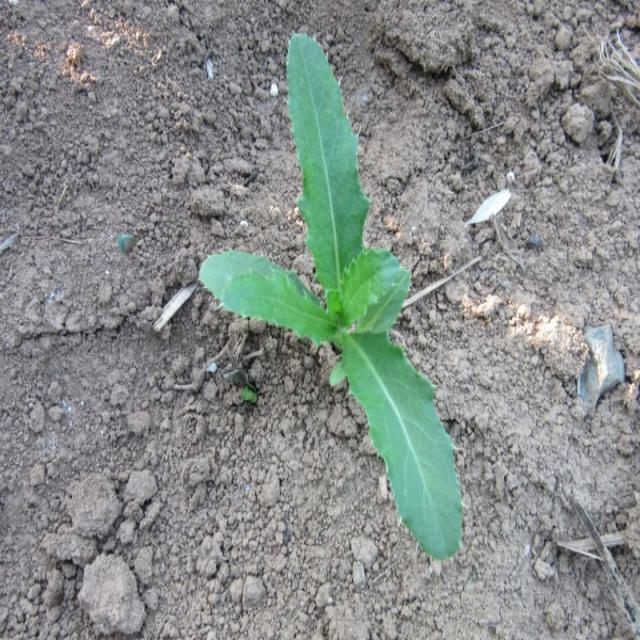cs: (198, 28, 461, 557)
